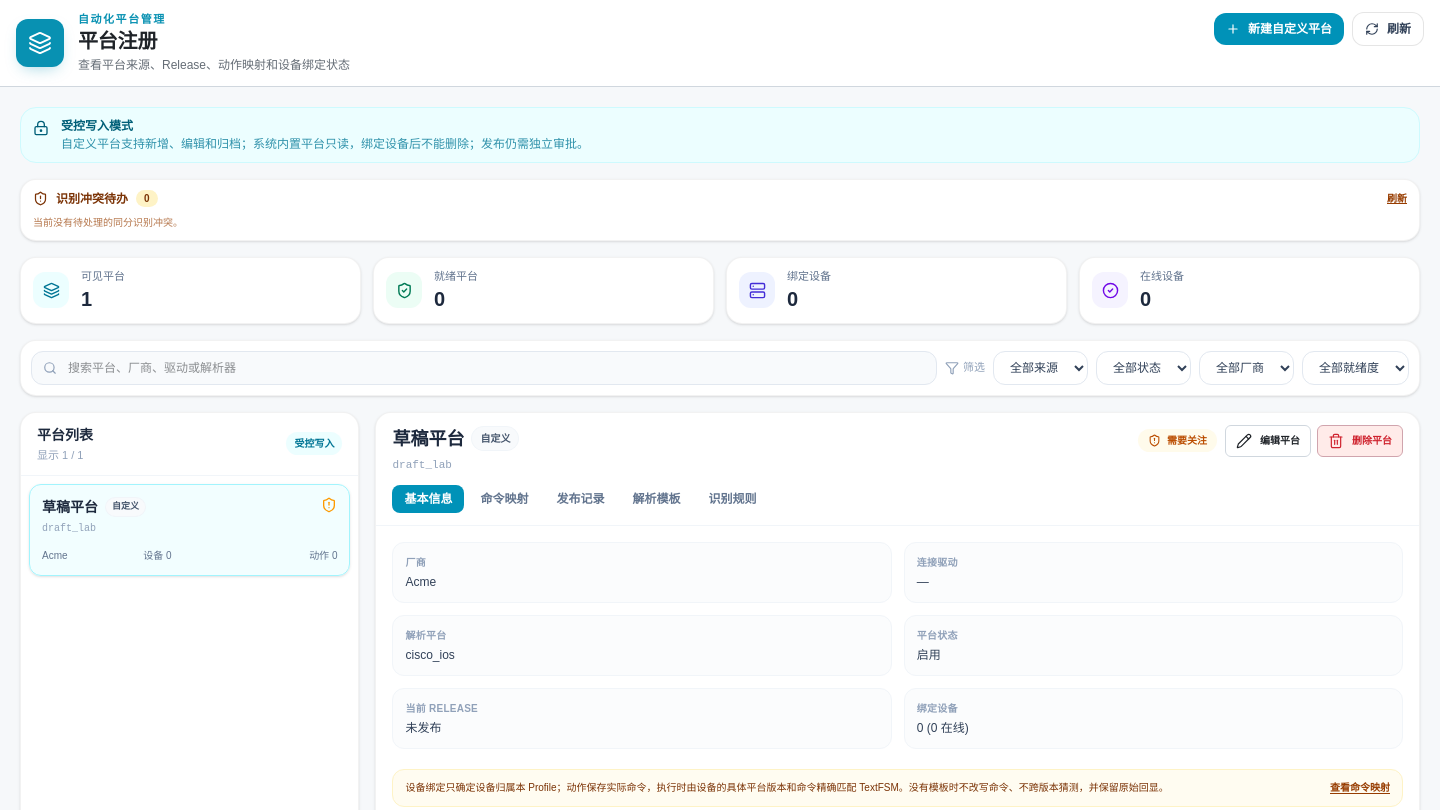
Test: PlatformRegistryTab › keeps a newly created draft selected and editable in command mappings
Expected: the heading "草稿平台" is shown, [392,425,464,453]
Click the button "命令映射" at (504, 499), box [468,485,540,513]
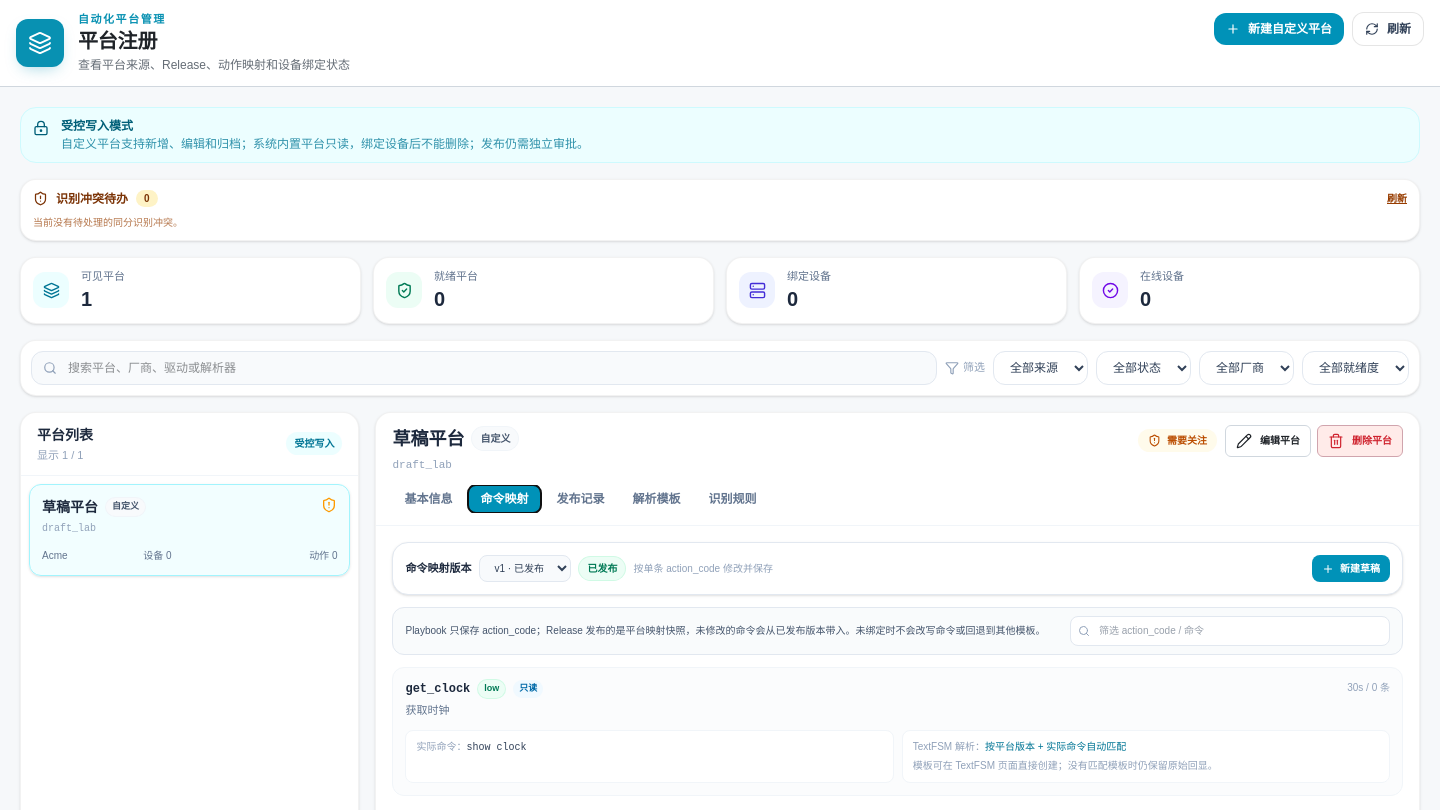
Click the button "新建草稿" at (1351, 569), box [1312,555,1390,582]
(page scrolled)
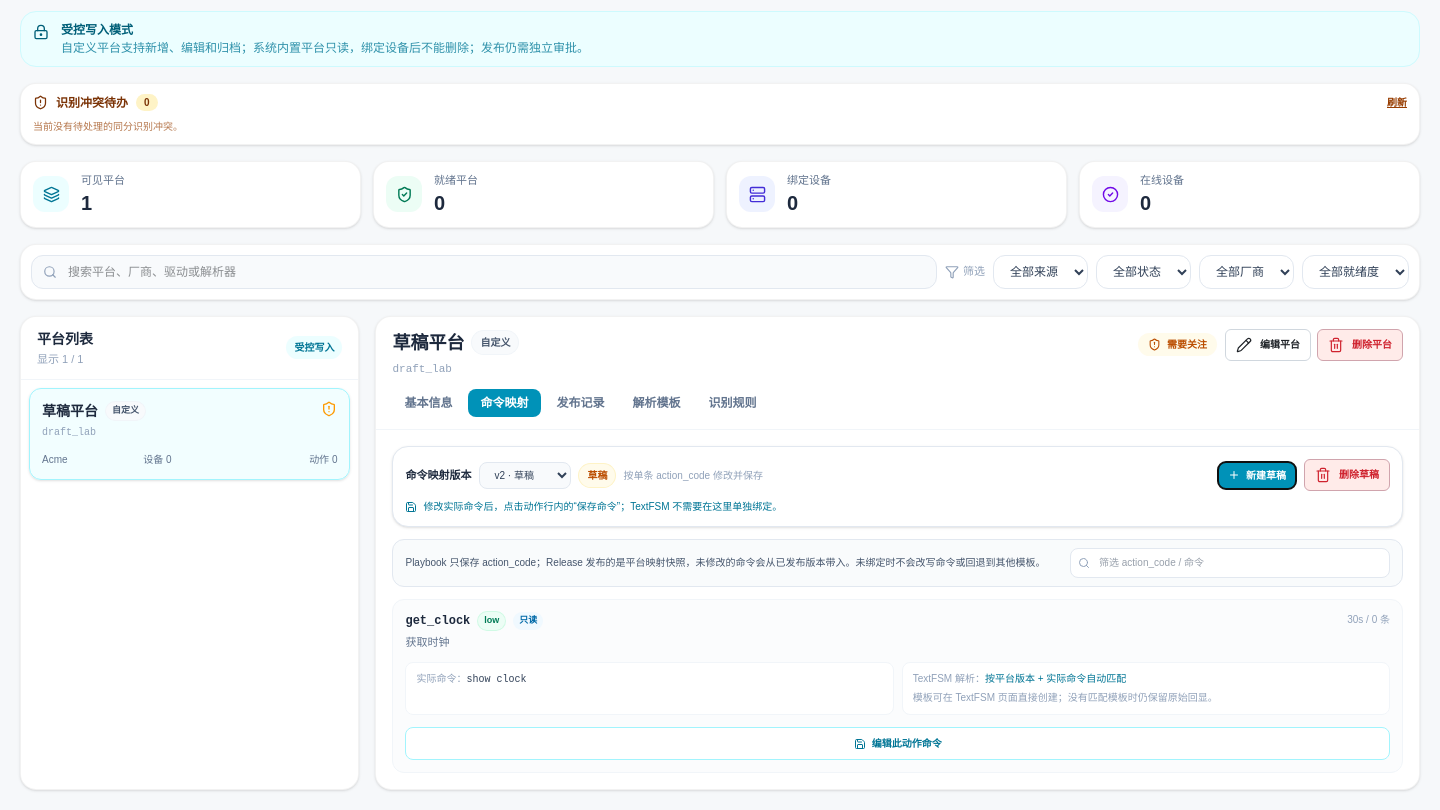
Expected: the dropdown next to "命令映射版本" shows "v2 · 草稿", [480,462,572,489]
Expected: the button "删除草稿" is shown, [1304,459,1390,491]
Expected: the button with aria-label "编辑动作命令" is shown, [406,727,1390,760]
